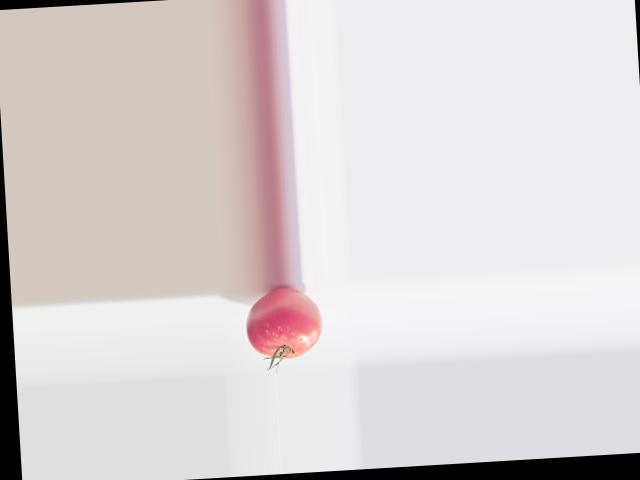tomato: (244, 285, 324, 359)
